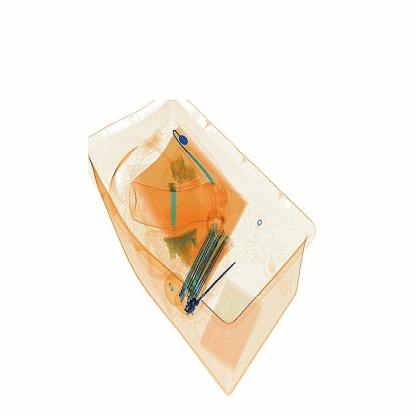pliers: (161, 181, 182, 248)
